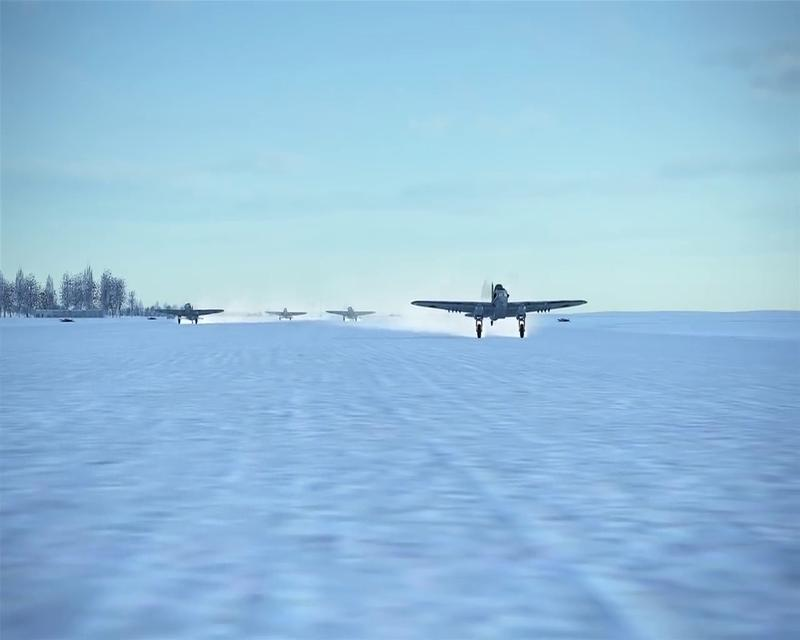UAV: (409, 281, 589, 340), (155, 302, 225, 325), (325, 307, 376, 322), (264, 308, 307, 320)
